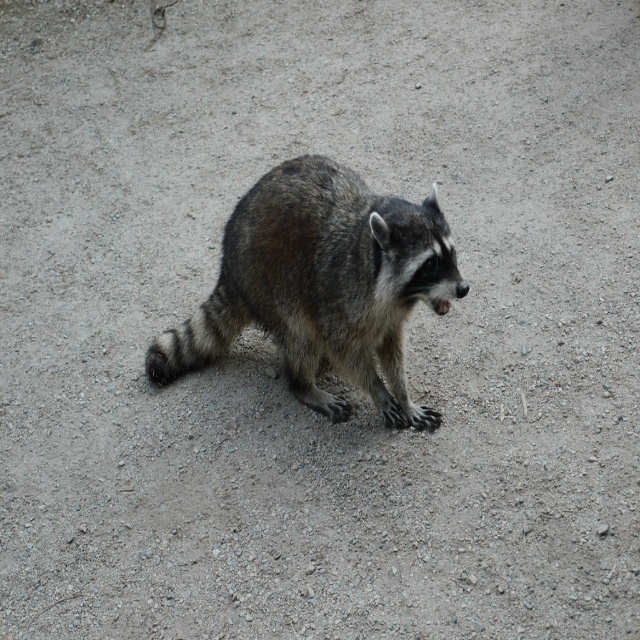Raccoon: (143, 155, 472, 429)
